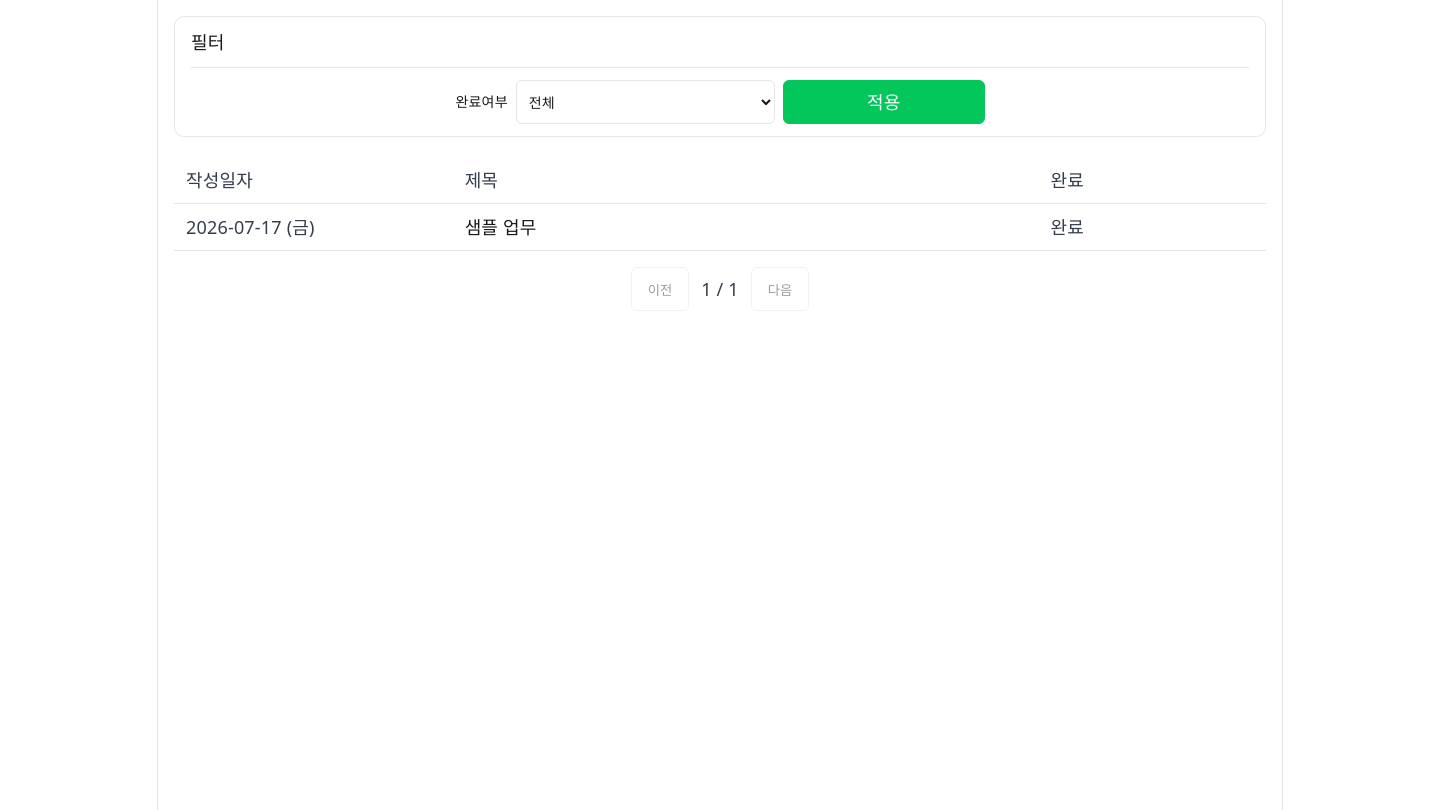
Test: WorkLogListPage › 완료여부 필터 적용 시 isCompleted 파라미터를 포함해 재조회한다
Select "진행중" in the dropdown labelled "완료여부" at [645, 102], box [516,80,775,124]
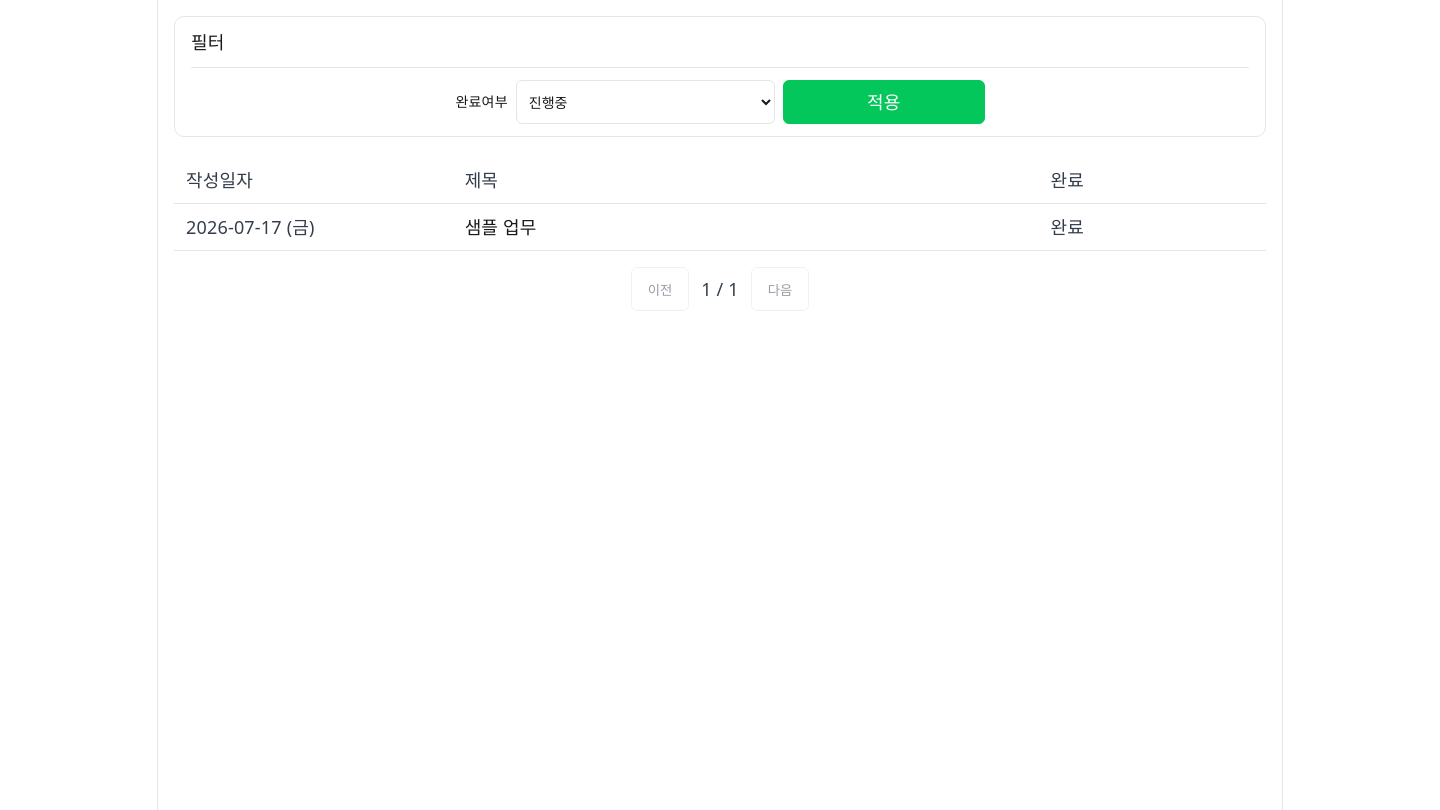
Click the button "적용".
click(884, 102)  # box [783,80,984,124]
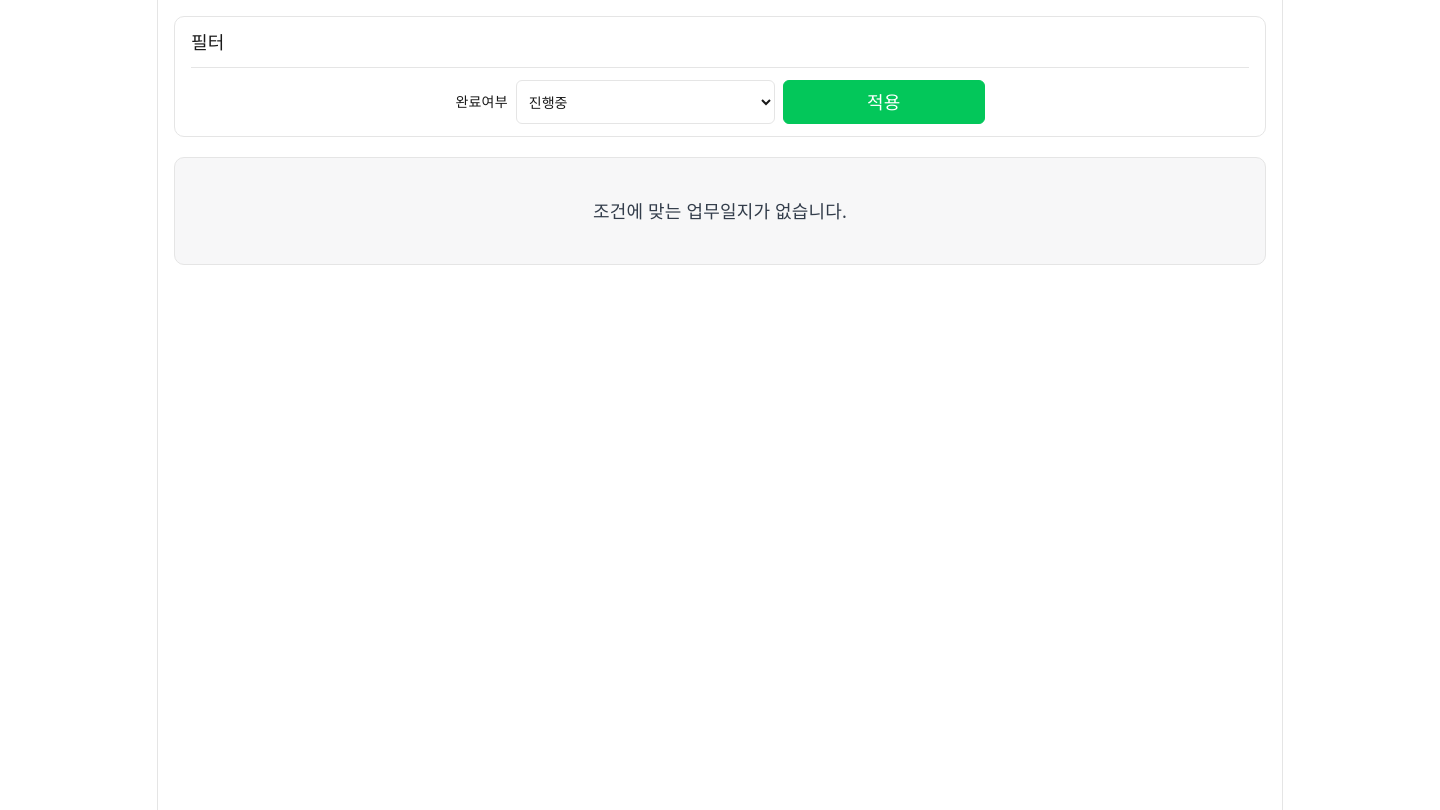
Expected: the text "조건에 맞는 업무일지가 없습니다." is shown, [174,157,1266,265]
